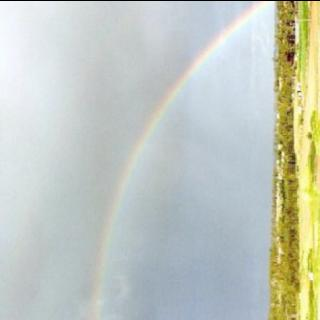Nimbostratus: (1, 0, 280, 320)
